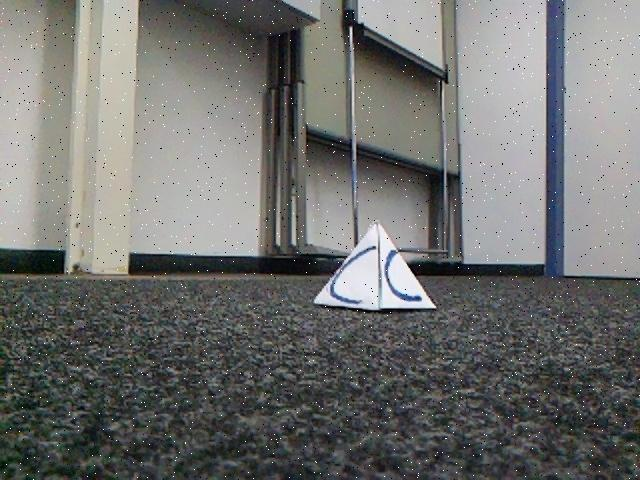C: (315, 223, 438, 313)
